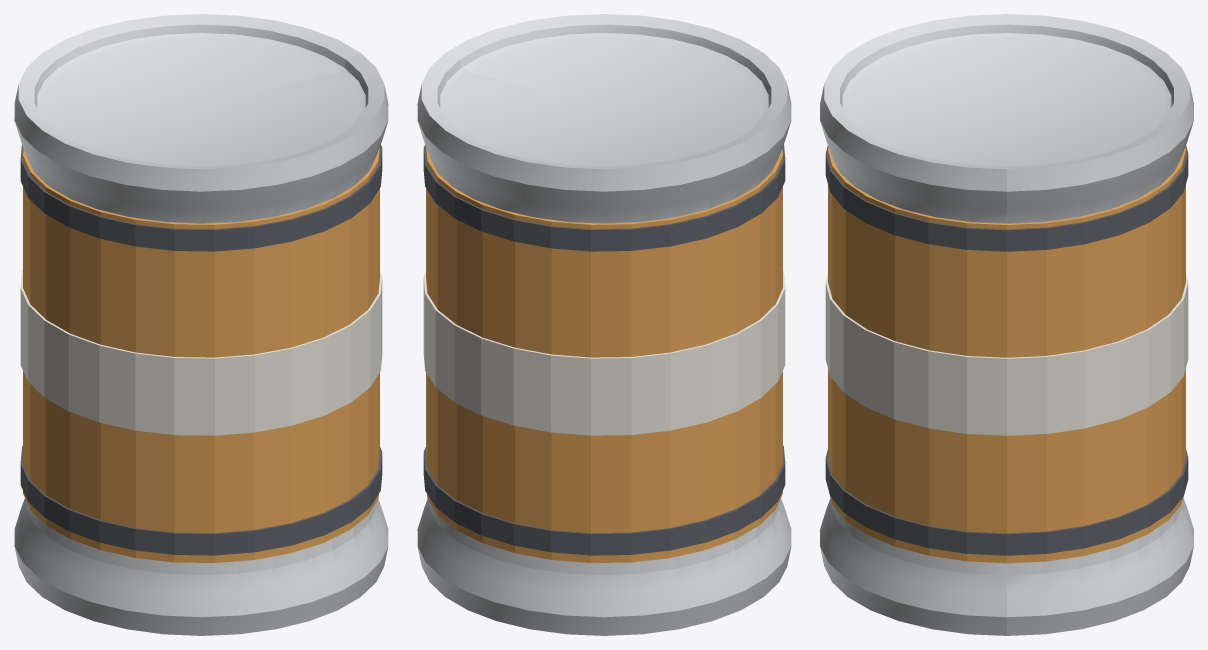
The model's file is fresh-produce-and-groceries-baked-beans-tin-4dfdad3f__24430.glb.
The picture shows the model from 3 angles, left to right: view 1: azimuth 30°, elevation 25°; view 2: azimuth 150°, elevation 25°; view 3: azimuth 270°, elevation 25°; orthographic projection.
Visible parts, largest first — view 1: baked-beans-tin; view 2: baked-beans-tin; view 3: baked-beans-tin.
Part boxes in pixels (x1,y1,x2,y2): baked-beans-tin: [14, 14, 388, 635]; baked-beans-tin: [417, 14, 791, 635]; baked-beans-tin: [820, 14, 1193, 635].
Bounding box in the file's own units: 0.0796 × 0.109 × 0.0792.
